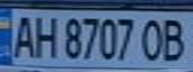0: (100, 15, 118, 61)
7: (115, 15, 139, 62), (78, 14, 100, 61)
8: (60, 13, 84, 60)
A: (6, 11, 39, 60)
B: (157, 16, 190, 63)
H: (30, 12, 60, 60)
O: (139, 16, 169, 62)
